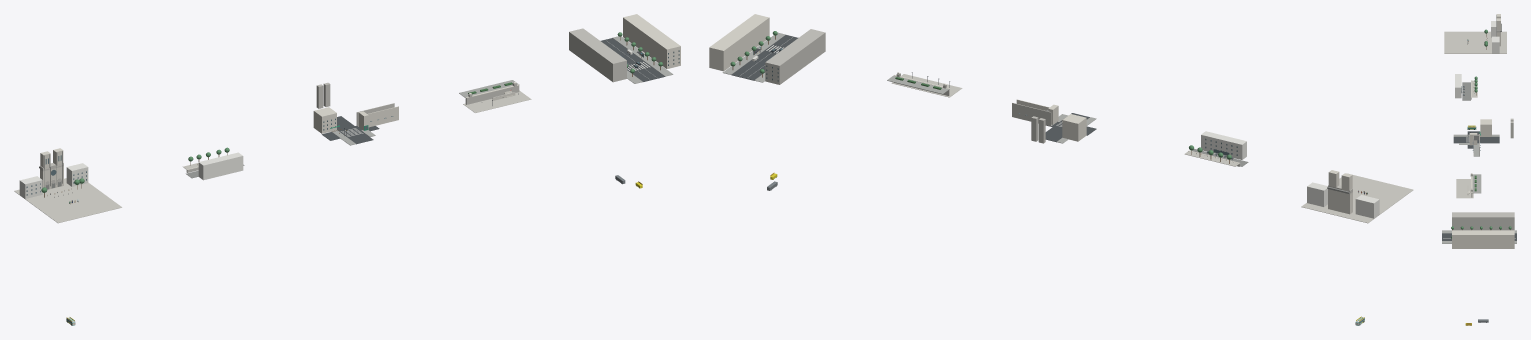
The picture shows the model from 3 angles, left to right: view 1: azimuth 30°, elevation 25°; view 2: azimuth 150°, elevation 25°; view 3: azimuth 270°, elevation 25°; orthographic projection. The views are drawn at different scales.
Parts seen in each view (by area): view 1: S01 cathedral square paving, S05 east boulevard facade, S05 west boulevard facade, S02 street white block, S05 boulevard road, S04 lower pavement, S03 cafe corner building, S03 north-south road; view 2: S05 east boulevard facade, S05 west boulevard facade, S01 cathedral square paving, S02 street white block, S05 boulevard road, S03 cafe corner building, S06 north wall, Notre-Dame lower facade, S01 left Paris block; view 3: S01 cathedral square paving, S05 east boulevard facade, S05 west boulevard facade, S04 lower pavement, S03 north-south road, S03 cafe corner building, S04 terrace top, S02 street white block, S02 lower cobbled street, S01 right Paris block, S05 boulevard road, S01 left Paris block (+6 smaller).
Part boxes in pixels (x1,y1,x2,y2): S01 cathedral square paving: (14,178,121,223); S05 east boulevard facade: (623,14,680,68); S05 west boulevard facade: (569,28,626,82); S02 street white block: (198,152,243,180); S05 boulevard road: (601,38,664,81); S04 lower pavement: (463,90,531,112); S03 cafe corner building: (313,107,336,133); S03 north-south road: (337,116,373,144); S05 east boulevard facade: (709,14,769,71); S05 west boulevard facade: (765,29,825,84); S01 cathedral square paving: (1301,173,1413,223); S02 street white block: (1201,131,1246,159); S05 boulevard road: (731,35,798,80); S03 cafe corner building: (1062,114,1086,141); S06 north wall: (1012,103,1051,126); Notre-Dame lower facade: (1328,189,1352,214); S01 left Paris block: (1355,195,1379,218); S01 cathedral square paving: (1444,31,1506,53); S05 east boulevard facade: (1452,230,1514,248); S05 west boulevard facade: (1452,212,1514,230); S04 lower pavement: (1456,179,1473,198); S03 north-south road: (1453,137,1499,143); S03 cafe corner building: (1480,119,1491,136); S04 terrace top: (1472,174,1481,193); S02 street white block: (1455,74,1461,98); S02 lower cobbled street: (1462,82,1470,100); S01 right Paris block: (1492,36,1499,53); S05 boulevard road: (1442,233,1516,240); S01 left Paris block: (1491,21,1496,37).
Size of the model in its own units: 536 by 129 by 78.
